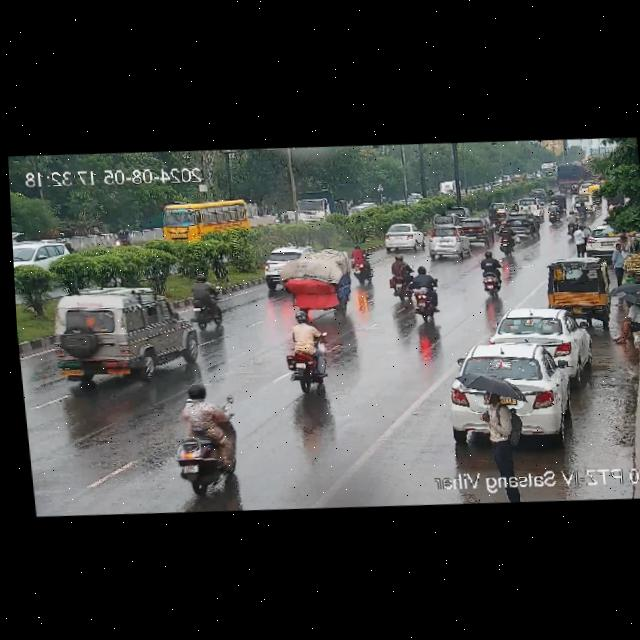bus: (159, 196, 258, 245)
car: (442, 341, 589, 451), (50, 288, 198, 385), (490, 306, 591, 366), (537, 255, 611, 315), (286, 254, 354, 311), (12, 239, 71, 271), (422, 233, 472, 260), (380, 224, 427, 252), (496, 212, 543, 234), (459, 215, 485, 239), (515, 196, 545, 216), (428, 213, 459, 228), (555, 192, 570, 212), (586, 184, 602, 196)
motorcycle: (174, 384, 244, 488), (281, 312, 334, 394), (180, 278, 232, 328), (400, 267, 446, 321), (473, 250, 508, 296), (386, 254, 413, 296), (350, 240, 373, 287), (491, 228, 522, 253), (544, 201, 563, 225), (549, 200, 562, 226), (566, 210, 578, 233), (487, 205, 499, 227), (577, 200, 588, 220)
person: (472, 389, 523, 470), (611, 288, 640, 342), (606, 241, 632, 284), (571, 224, 592, 257)
truck: (293, 188, 356, 224), (555, 161, 584, 194)
